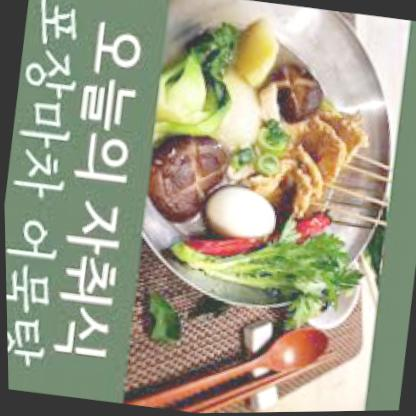boiled fish paste soup: (131, 15, 382, 304)
